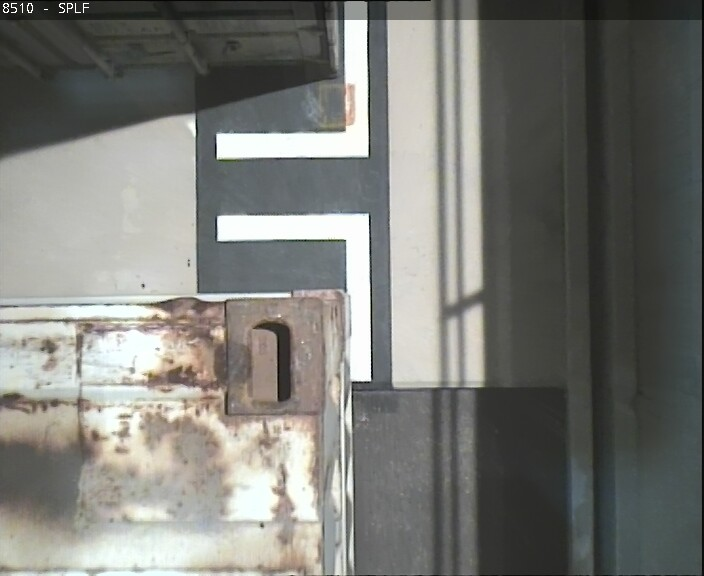groundmarker_1: (214, 1, 369, 381)
